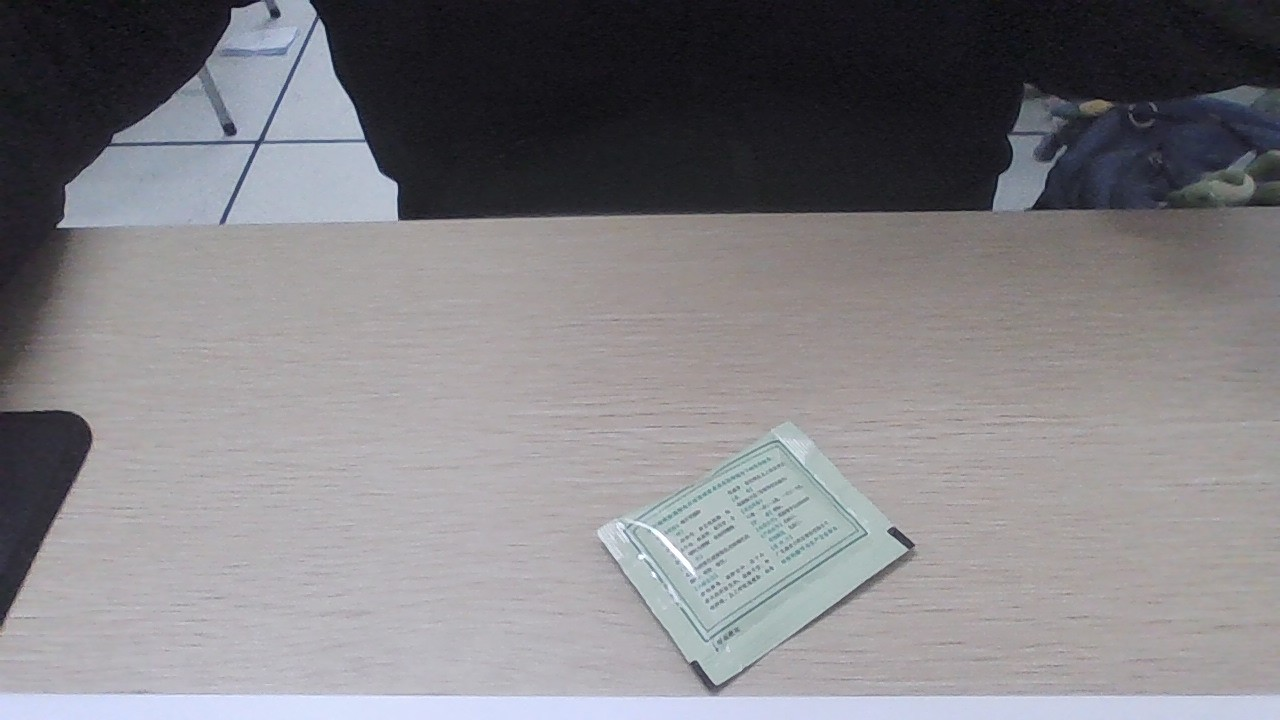YH-green medicine: (631, 433, 902, 660)
